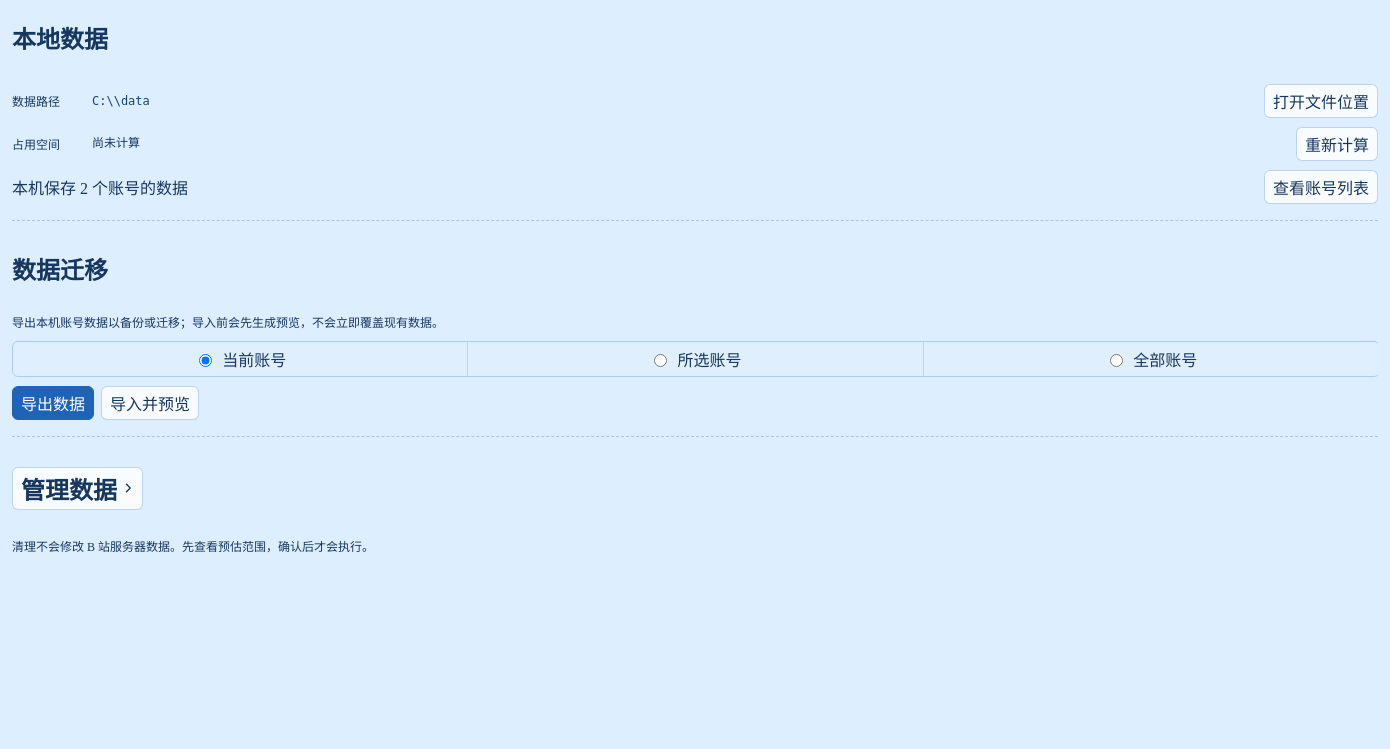
Test: LocalDataSettings › lets the user choose account data for export and previews non-destructive cleanup
The image size is (1390, 749).
Click the radio button labelled "所选账号" at [661, 360], box left=654, top=354, right=668, bottom=367
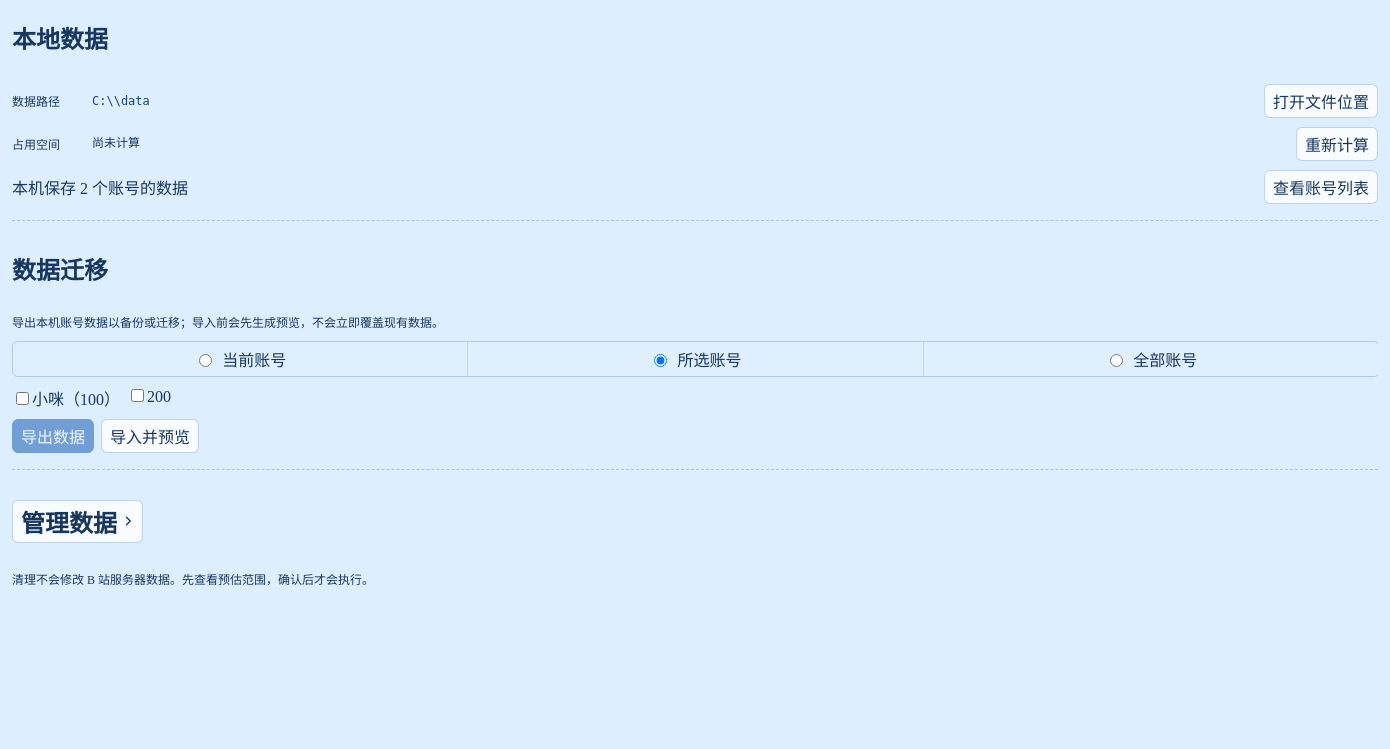
Click the checkbox named "导出账号 小咪（100）" at [22, 398], box left=16, top=392, right=29, bottom=405
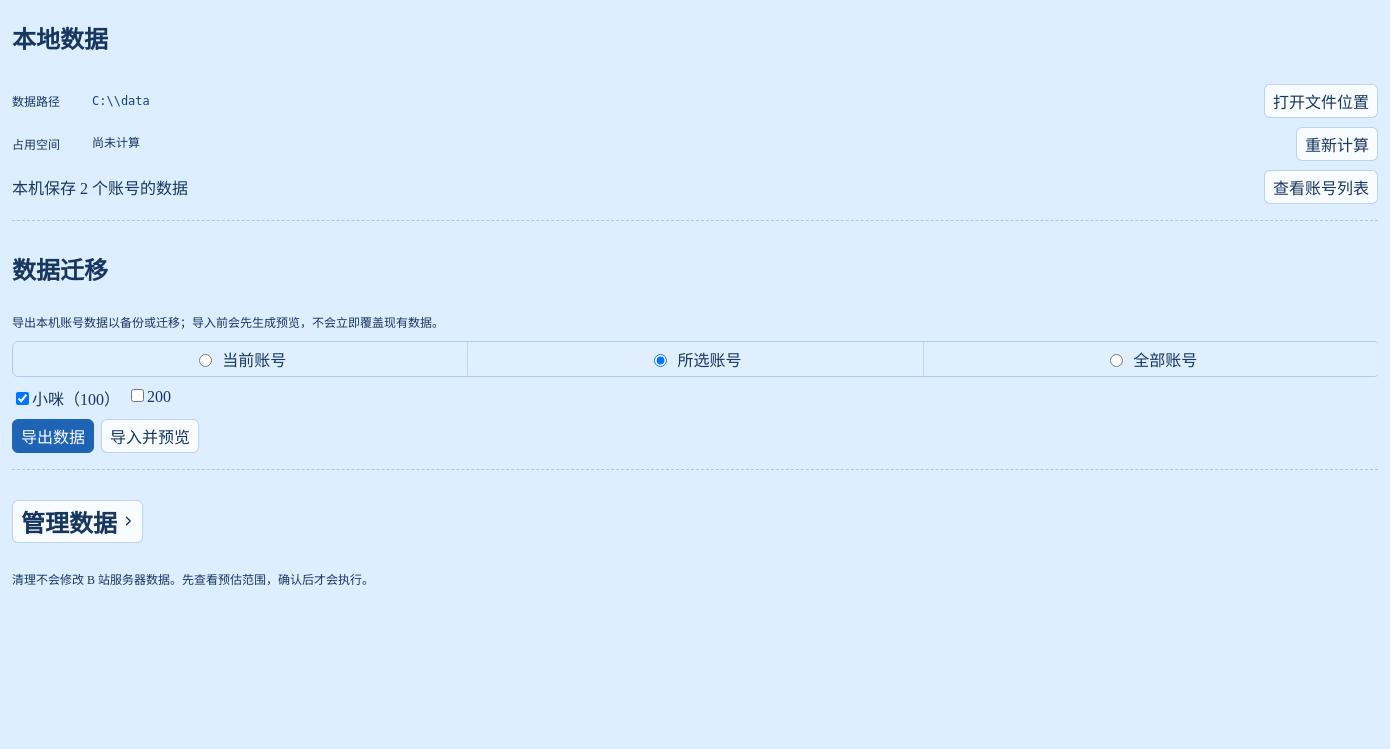
Click the button "导出数据" at [53, 436], box left=12, top=419, right=94, bottom=453
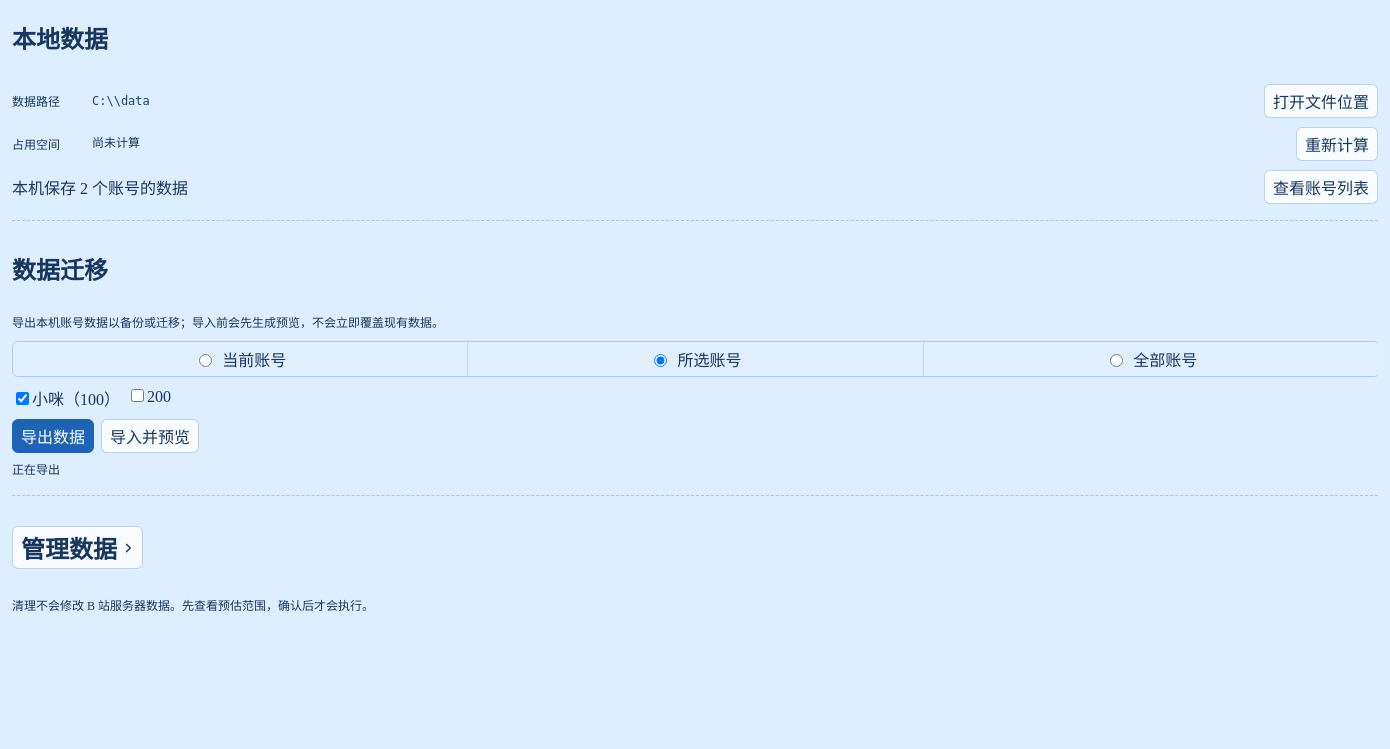
Click the button "管理数据" at [78, 548], box left=12, top=526, right=143, bottom=569
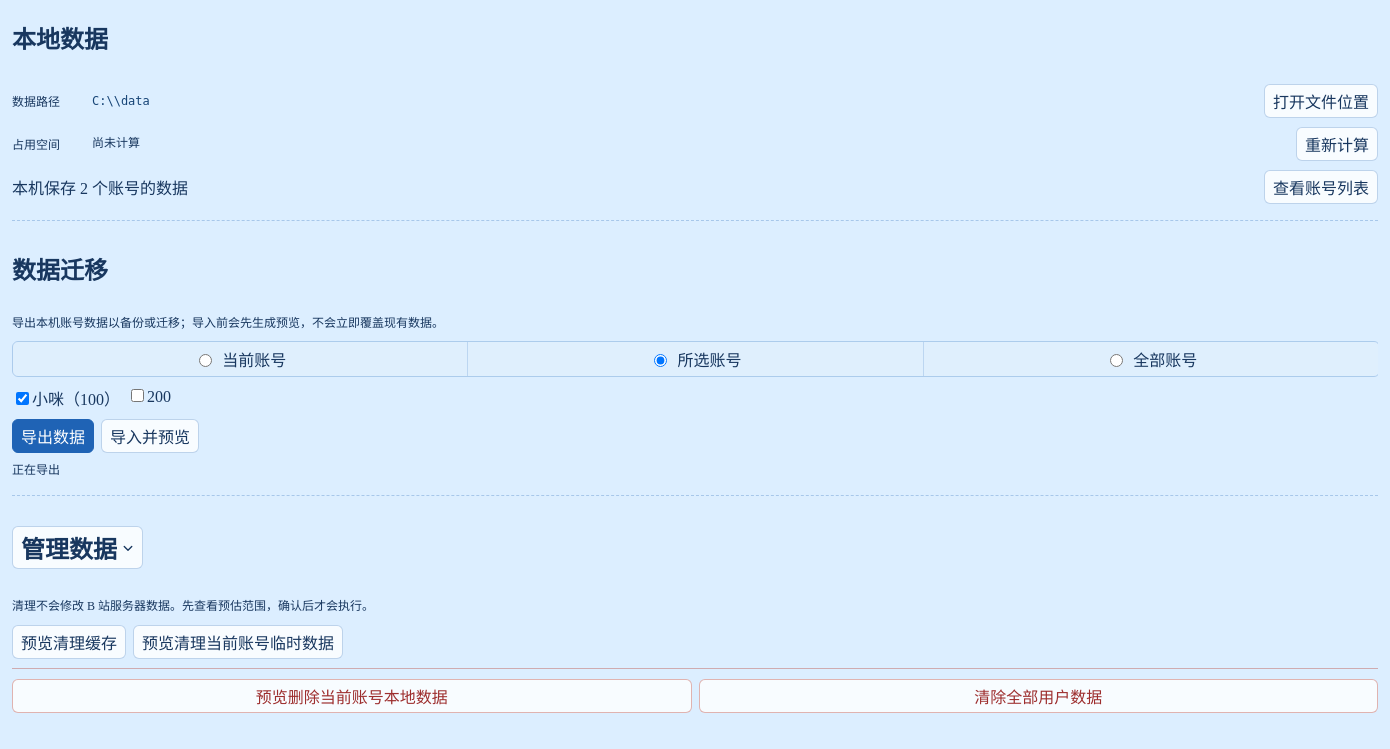
Click the button "预览清理缓存" at [69, 642], box left=12, top=625, right=126, bottom=659
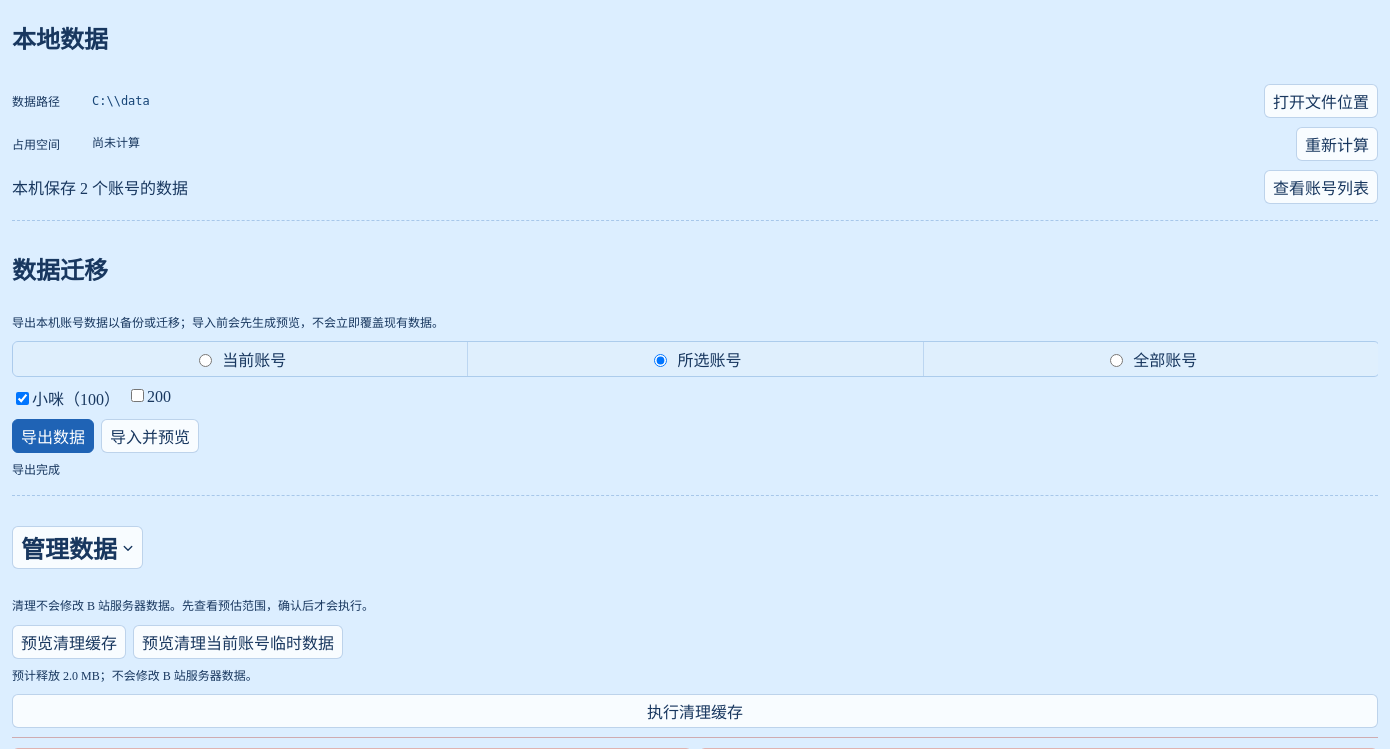
Result: the text "预计释放 2.0 MB；不会修改 B 站服务器数据。" is shown at left=12, top=669, right=258, bottom=683
